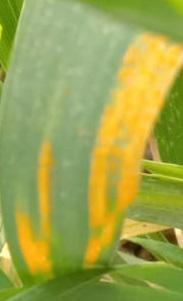Wheat: (75, 34, 183, 273)
